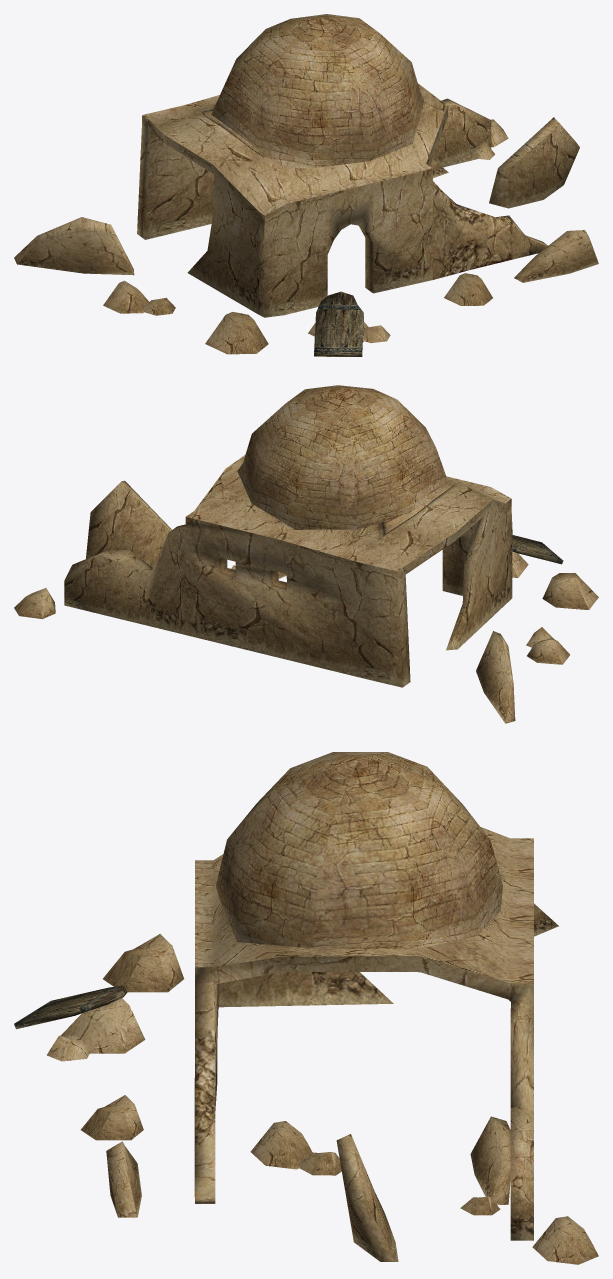
Rendered from w_cd_buddhist00.glb.
3 views of the same model, one above another, from view 1: azimuth 30°, elevation 25°; view 2: azimuth 150°, elevation 25°; view 3: azimuth 270°, elevation 25° (orthographic). The views are drawn at different scales.
Visible parts, largest first — view 1: w_cd_Buddhist00, w_cd_Buddhist02, w_cd_Buddhist01, w_cd_Buddhist03; view 2: w_cd_Buddhist00, w_cd_Buddhist02, w_cd_Buddhist01, w_cd_Buddhist03; view 3: w_cd_Buddhist02, w_cd_Buddhist00, w_cd_Buddhist01, w_cd_Buddhist03.
Boxes of the visible parts, left/top/right/bottom form: w_cd_Buddhist00: left=14, top=98, right=598, bottom=354; w_cd_Buddhist02: left=211, top=14, right=424, bottom=168; w_cd_Buddhist01: left=142, top=83, right=447, bottom=215; w_cd_Buddhist03: left=314, top=291, right=363, bottom=356; w_cd_Buddhist00: left=14, top=480, right=598, bottom=723; w_cd_Buddhist02: left=237, top=385, right=454, bottom=529; w_cd_Buddhist01: left=186, top=455, right=511, bottom=571; w_cd_Buddhist03: left=512, top=535, right=563, bottom=564; w_cd_Buddhist02: left=216, top=752, right=502, bottom=949; w_cd_Buddhist00: left=47, top=903, right=598, bottom=1264; w_cd_Buddhist01: left=195, top=827, right=533, bottom=983; w_cd_Buddhist03: left=14, top=985, right=510, bottom=1029.
Size of the model in its own units: 23.75 by 10.67 by 17.03.
Materials: 4 (4 with a texture image).
